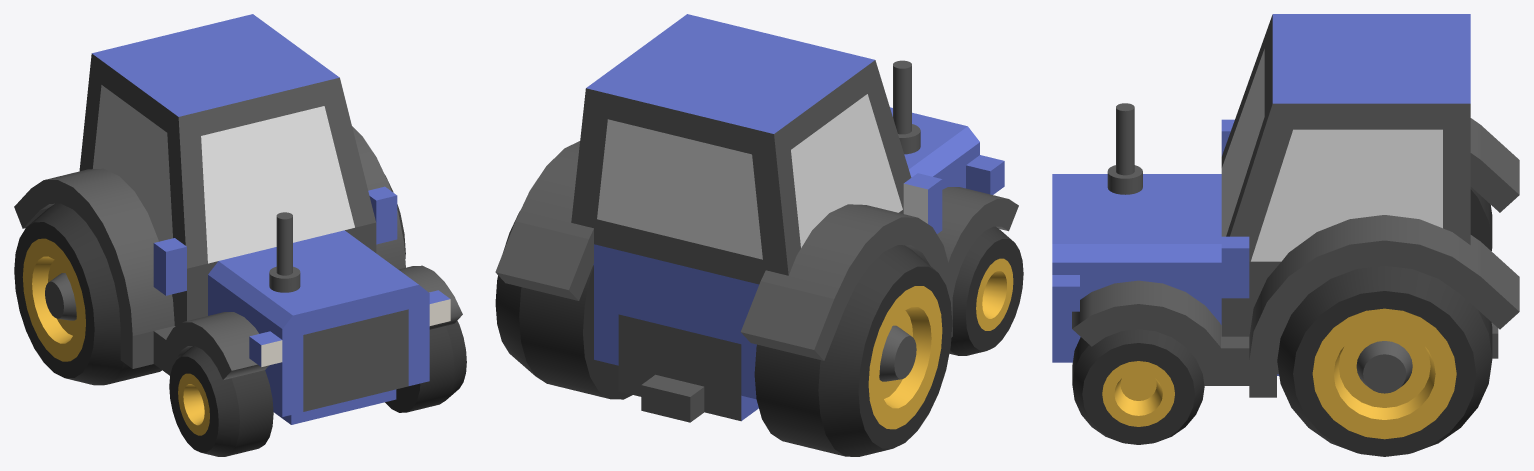
The model's file is tractor.dae.
The picture shows the model from 3 angles, left to right: view 1: azimuth 30°, elevation 25°; view 2: azimuth 150°, elevation 25°; view 3: azimuth 270°, elevation 25°; orthographic projection. The views are drawn at different scales.
Parts seen in each view (by area): view 1: body, skirts, wheel_backLeft, wheel_frontLeft, wheel_frontRight; view 2: body, skirts, wheel_backLeft, wheel_backRight, wheel_frontLeft; view 3: body, wheel_backRight, skirts, wheel_frontRight, wheel_backLeft.
Part boxes in pixels (box(x1,y1,x2,y2)): body: box(79, 14, 450, 424); skirts: box(14, 126, 462, 379); wheel_backLeft: box(14, 203, 161, 385); wheel_frontLeft: box(169, 346, 273, 456); wheel_frontRight: box(385, 320, 466, 412); body: box(571, 14, 1004, 422); skirts: box(495, 141, 1018, 360); wheel_backLeft: box(754, 245, 952, 456); wheel_backRight: box(495, 211, 632, 399); wheel_frontLeft: box(949, 226, 1023, 355); body: box(1052, 14, 1498, 375); wheel_backRight: box(1277, 265, 1492, 456); skirts: box(1072, 118, 1519, 397); wheel_frontRight: box(1072, 329, 1204, 444); wheel_backLeft: box(1470, 187, 1492, 250).
Bounding box in the file's own units: 1.25 × 1.1 × 1.42.
